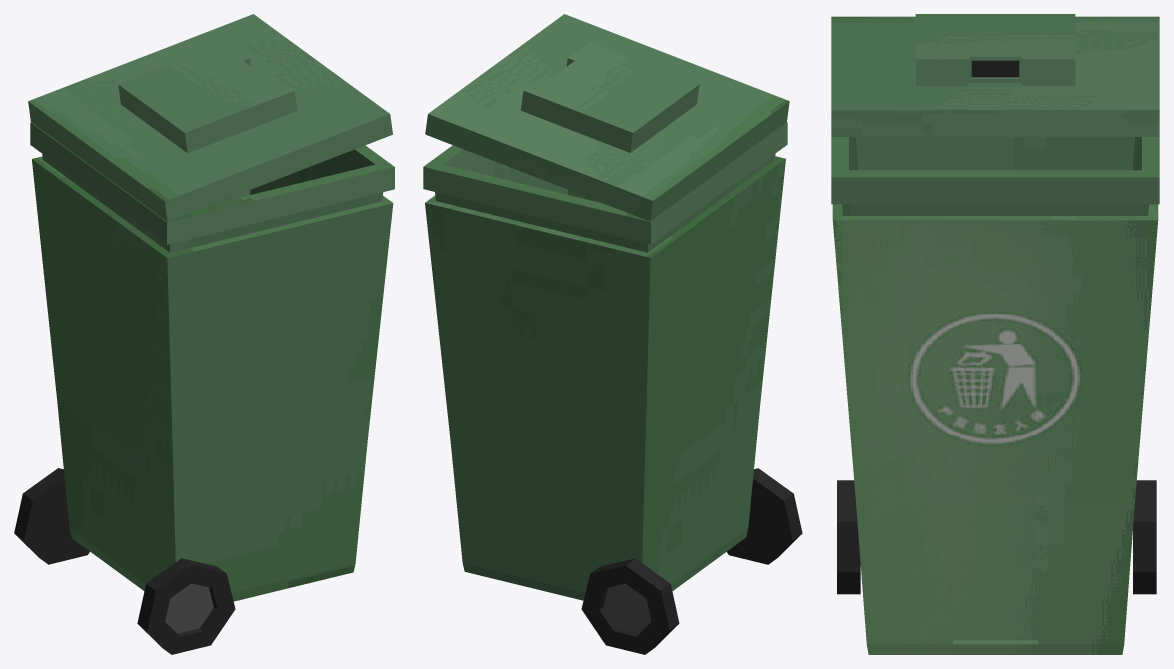
File: TrashBin.glb
3 renders of one model, left to right at view 1: azimuth 30°, elevation 25°; view 2: azimuth 150°, elevation 25°; view 3: azimuth 270°, elevation 25°, orthographic. The views are drawn at different scales.
Parts seen in each view (by area): view 1: Cube, Cube.001, Cylinder.001, Cylinder; view 2: Cube, Cube.001, Cylinder, Cylinder.001; view 3: Cube, Cube.001, Cylinder, Cylinder.001.
Part boxes in pixels (x1,y1,x2,y2): Cube: (30,122,394,601); Cube.001: (28,14,392,221); Cylinder.001: (137,558,235,654); Cylinder: (14,468,89,564); Cube: (423,122,787,600); Cube.001: (425,14,789,221); Cylinder: (581,558,679,654); Cylinder.001: (727,468,802,564); Cube: (831,137,1159,654); Cube.001: (831,14,1159,136); Cylinder: (1133,480,1156,594); Cylinder.001: (837,480,860,594).
Bounding box in the file's own units: 1.21 × 2.36 × 1.16.
Materials: 4 (2 with a texture image).
